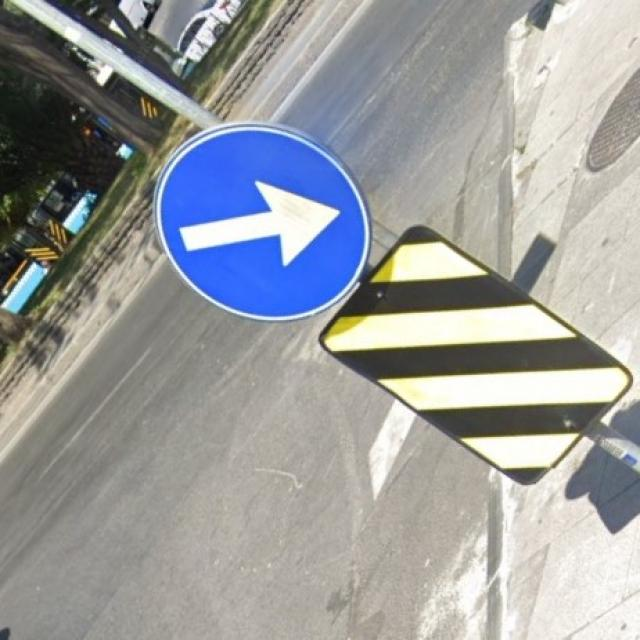Turn Right: (144, 121, 371, 332)
